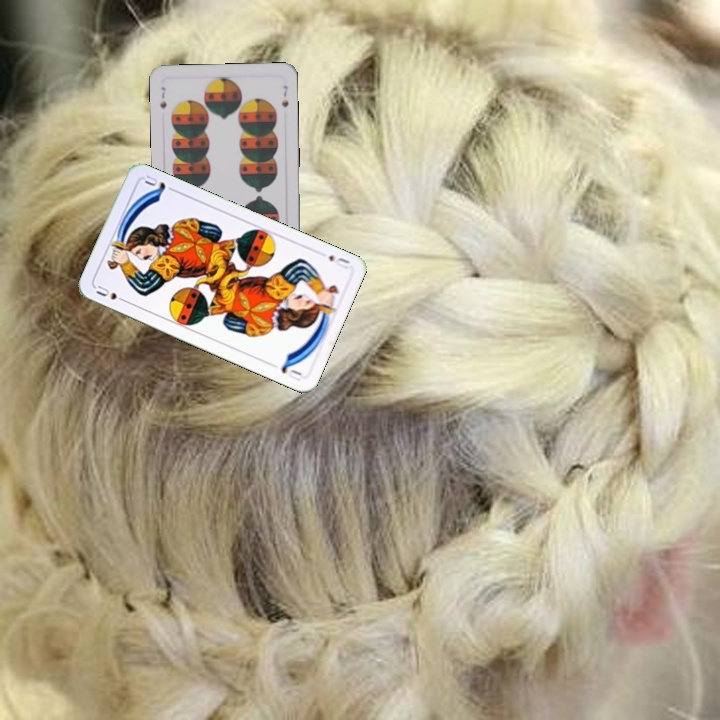S7: (156, 83, 169, 111)
SU: (92, 281, 130, 305), (325, 251, 353, 269)
